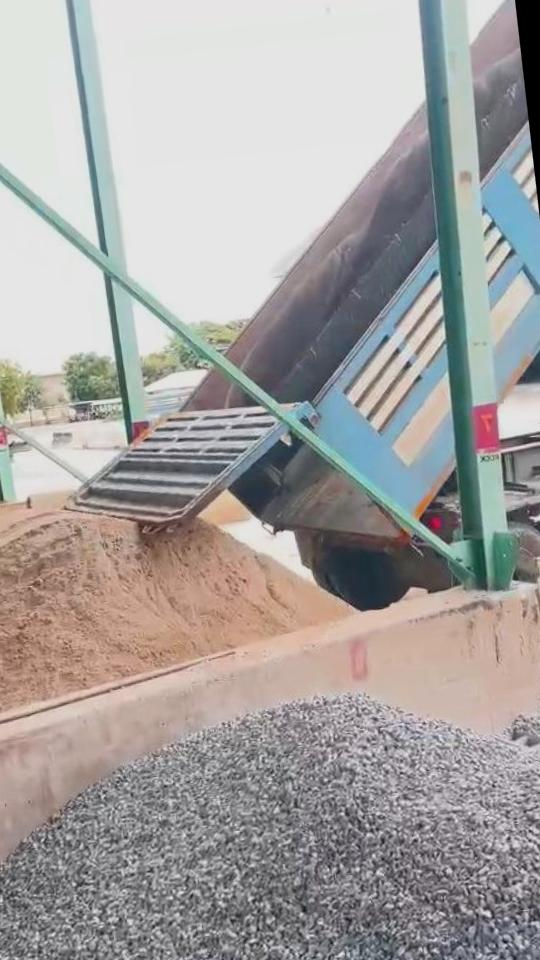gravel: (0, 695, 540, 960), (507, 713, 540, 764)
sand: (0, 510, 349, 726), (0, 493, 63, 584), (203, 493, 245, 525)
